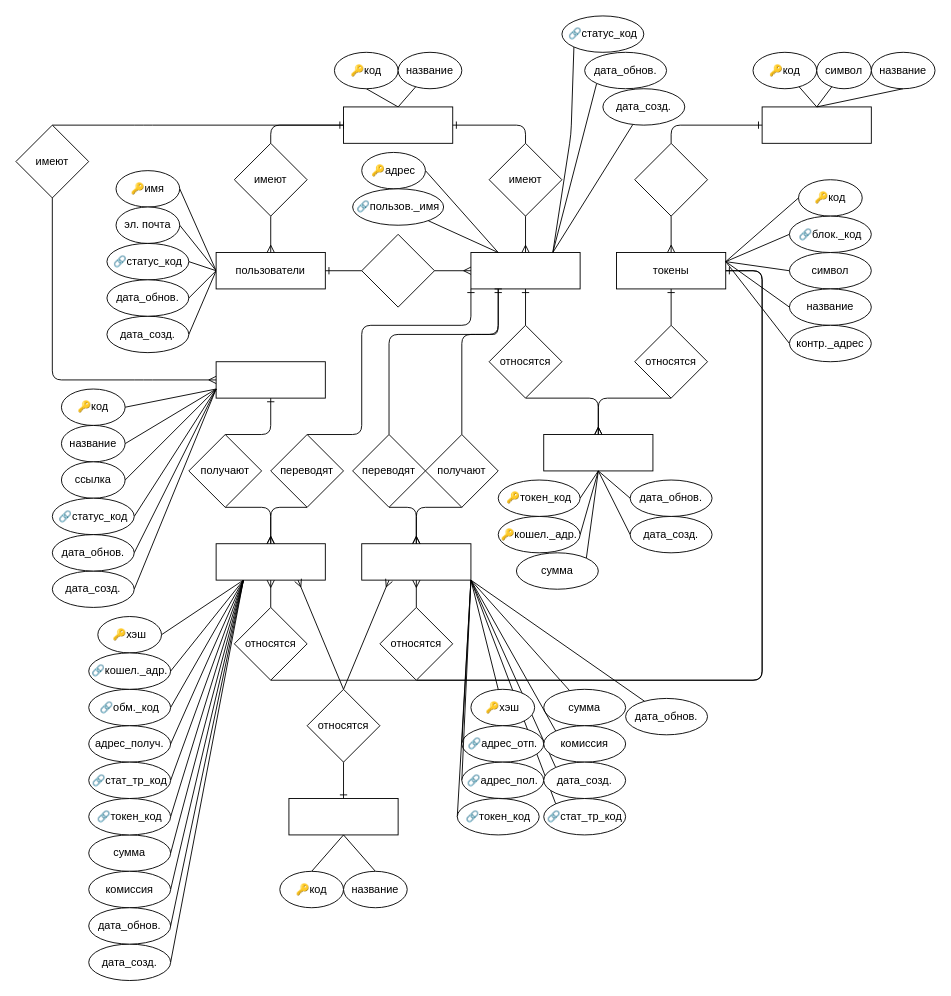
The diagram is 951 pixels wide and 996 high, and some of its shapes have lost their labels. Each missing label, with the centre of its shape:
"балансы" belongs at (x=598, y=452).
"блокчейны" belongs at (x=816, y=124).
"кошельки" belongs at (x=525, y=270).
"обменники" belongs at (x=270, y=379).
"привязаны" belongs at (x=398, y=270).
"содержат" belongs at (x=671, y=179).
"статусы" belongs at (x=398, y=124).
"статусы транзакций" belongs at (x=343, y=816).
"транзакции между внут. кошельками" belongs at (x=416, y=561).
"транзакции с обменниками" belongs at (x=270, y=561).
